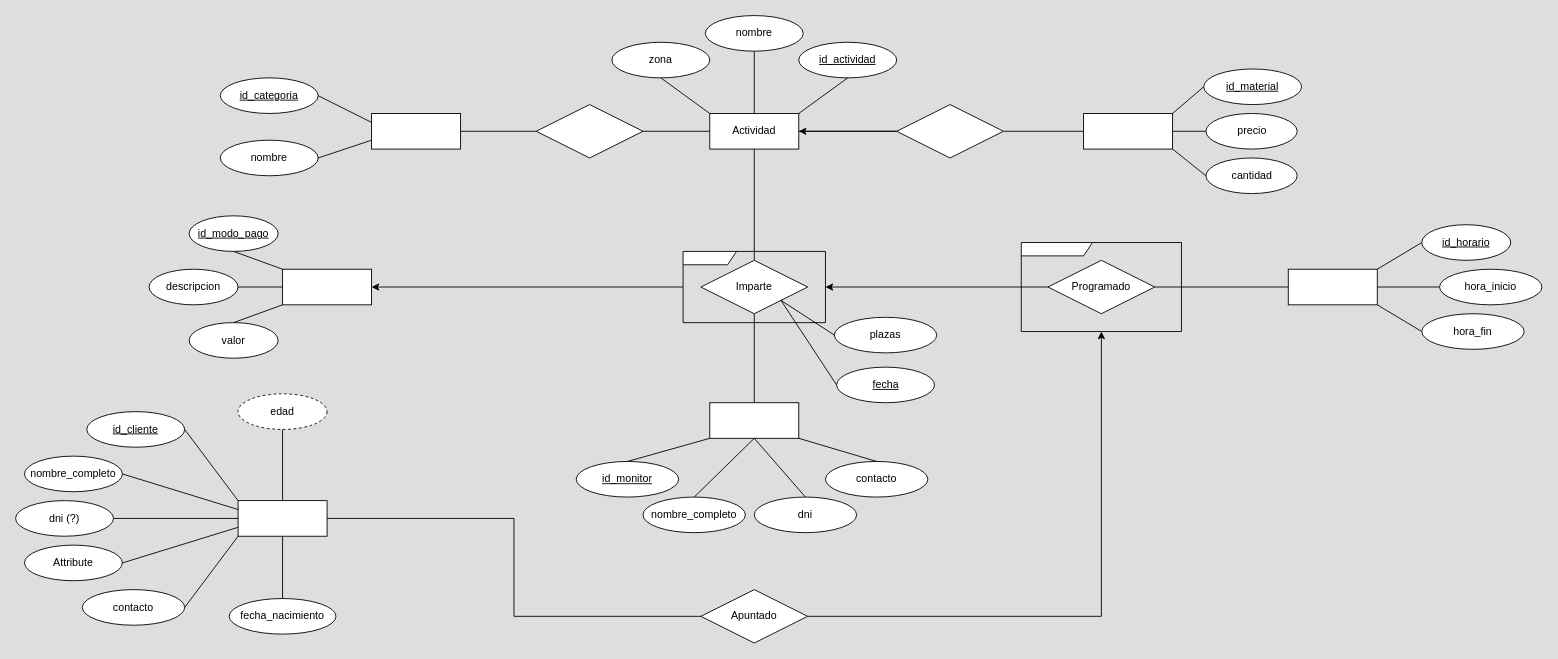
This 1558x659 diagram has some shape labels left out. Each missing label, with the centre of its shape:
"Categoría" belongs at (416,131).
"Cliente" belongs at (282,518).
"Horario" belongs at (1332,286).
"Material" belongs at (1128,131).
"Modo_pago" belongs at (327,286).
"Monitor" belongs at (754,420).
"Pertenece_a" belongs at (589,131).
"Programa" belongs at (1100,287).
"Taller" belongs at (753,287).
"Usa" belongs at (949,131).
